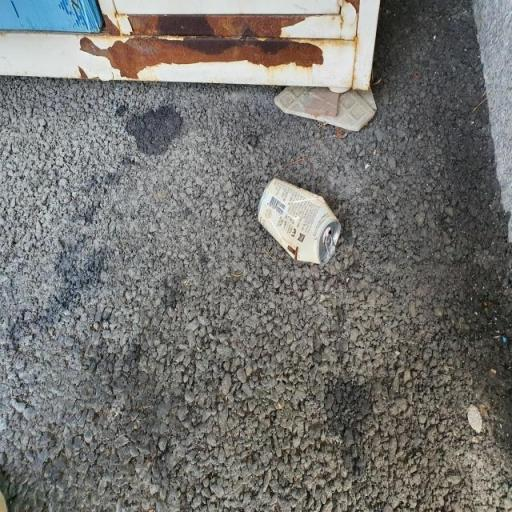metal: (230, 151, 358, 302)
